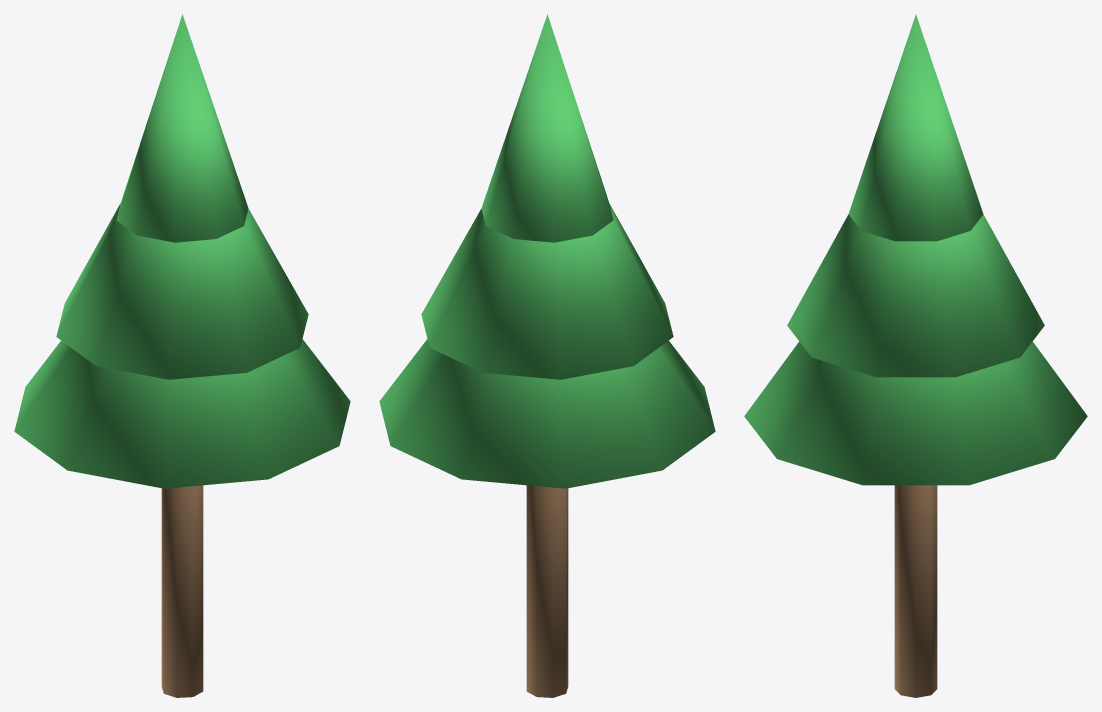
The model's file is tree.glb.
The picture shows the model from 3 angles, left to right: view 1: azimuth 30°, elevation 25°; view 2: azimuth 150°, elevation 25°; view 3: azimuth 270°, elevation 25°; orthographic projection.
Visible parts, largest first — view 1: tree; view 2: tree; view 3: tree.
Boxes of the visible parts, x1=… form: tree: x1=14, y1=14, x2=350, y2=697; tree: x1=379, y1=14, x2=715, y2=697; tree: x1=744, y1=14, x2=1087, y2=697.
Size of the model in its own units: 2.28 by 5.2 by 2.4.
